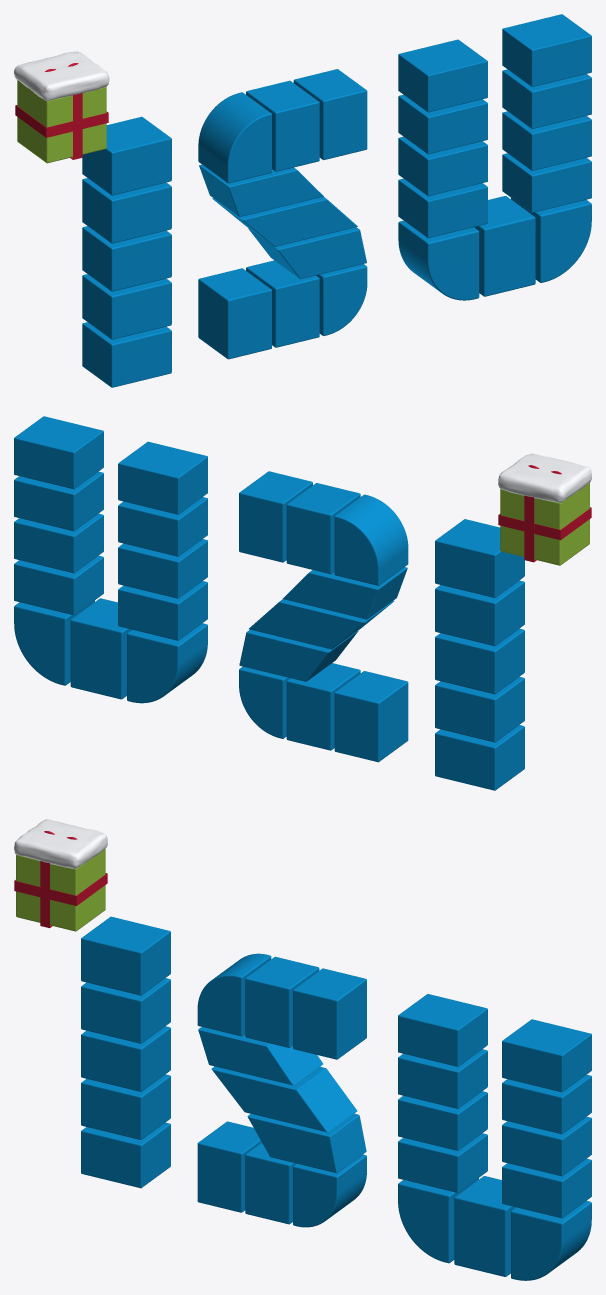
Rendered from isu-studio.glb.
3 views of the same model, one above another, from view 1: azimuth 30°, elevation 25°; view 2: azimuth 150°, elevation 25°; view 3: azimuth 330°, elevation 25° (orthographic).
Visible parts, largest first — view 1: ISU s-12, ISU s-06, ISU u-18, ISU u-22, ISU i-04, ISU u-24, ISU u-23, ISU i-01, ISU i-02, ISU i-03, ISU i-00, ISU s-08 (+17 smaller); view 2: ISU s-12, ISU s-06, ISU u-22, ISU u-18, ISU i-04, ISU u-24, ISU u-23, ISU i-02, ISU i-00, ISU i-01, ISU i-03, ISU s-07 (+17 smaller); view 3: ISU s-08, ISU i-04, ISU s-10, ISU u-22, ISU u-18, ISU u-24, ISU u-25, ISU s-11, ISU i-03, ISU i-01, ISU i-02, ISU i-00 (+17 smaller).
Boxes of the visible parts, bbox=[...] form: ISU s-12: bbox=[198, 268, 271, 359]; ISU s-06: bbox=[198, 92, 271, 183]; ISU u-18: bbox=[398, 39, 487, 112]; ISU u-22: bbox=[502, 14, 591, 86]; ISU i-04: bbox=[82, 116, 171, 195]; ISU u-24: bbox=[474, 196, 535, 296]; ISU u-23: bbox=[398, 220, 479, 300]; ISU i-01: bbox=[82, 274, 171, 339]; ISU i-02: bbox=[82, 226, 171, 291]; ISU i-03: bbox=[82, 178, 171, 243]; ISU i-00: bbox=[82, 322, 171, 387]; ISU s-08: bbox=[293, 69, 367, 160]; ISU s-12: bbox=[334, 671, 408, 762]; ISU s-06: bbox=[334, 494, 408, 585]; ISU u-22: bbox=[14, 416, 103, 489]; ISU u-18: bbox=[118, 441, 207, 514]; ISU i-04: bbox=[435, 519, 524, 597]; ISU u-24: bbox=[70, 598, 131, 699]; ISU u-23: bbox=[127, 623, 207, 703]; ISU i-02: bbox=[435, 628, 524, 694]; ISU i-00: bbox=[435, 725, 524, 790]; ISU i-01: bbox=[435, 676, 524, 742]; ISU i-03: bbox=[435, 580, 524, 646]; ISU s-07: bbox=[286, 483, 360, 574]; ISU s-08: bbox=[293, 968, 366, 1059]; ISU i-04: bbox=[81, 916, 170, 995]; ISU s-10: bbox=[211, 1066, 357, 1132]; ISU u-22: bbox=[502, 1019, 591, 1092]; ISU u-18: bbox=[398, 994, 487, 1066]; ISU u-24: bbox=[454, 1176, 515, 1276]; ISU u-25: bbox=[511, 1200, 591, 1280]; ISU s-11: bbox=[247, 1113, 366, 1173]; ISU i-03: bbox=[81, 978, 170, 1043]; ISU i-01: bbox=[81, 1074, 170, 1139]; ISU i-02: bbox=[81, 1026, 170, 1091]; ISU i-00: bbox=[81, 1122, 170, 1188].
Size of the model in its own units: 7.41 by 4.12 by 0.7899.
